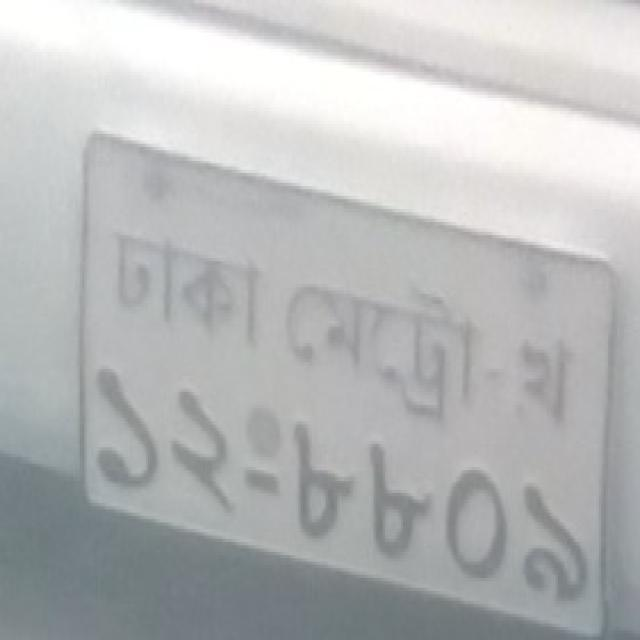numberplate: (77, 129, 618, 636)
